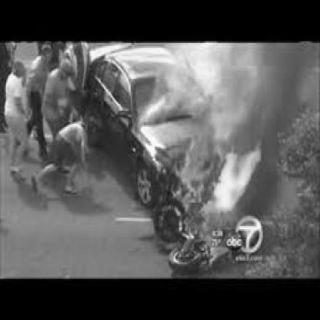Fire: (146, 98, 266, 248)
